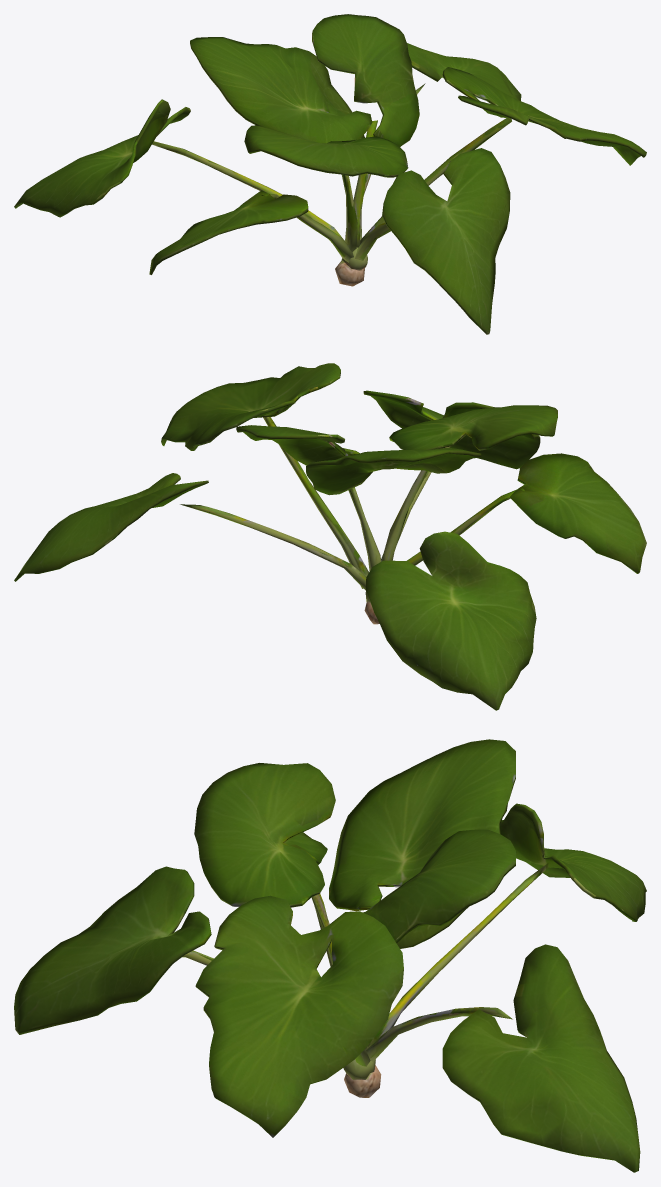
Rendered from Odora2.fbx.
3 views of the same model, one above another, from view 1: azimuth 30°, elevation 25°; view 2: azimuth 150°, elevation 25°; view 3: azimuth 270°, elevation 25° (orthographic). The views are drawn at different scales.
Parts seen in each view (by area): view 1: tripo_node_00fae1e0; view 2: tripo_node_00fae1e0; view 3: tripo_node_00fae1e0.
Boxes of the visible parts, x1,y1,x2,y2 form: tripo_node_00fae1e0: (14, 14, 646, 334); tripo_node_00fae1e0: (14, 363, 646, 710); tripo_node_00fae1e0: (14, 739, 646, 1172).
Bounding box in the file's own units: 0.9492 × 0.4389 × 0.8669.
1 material, 1 textured.
